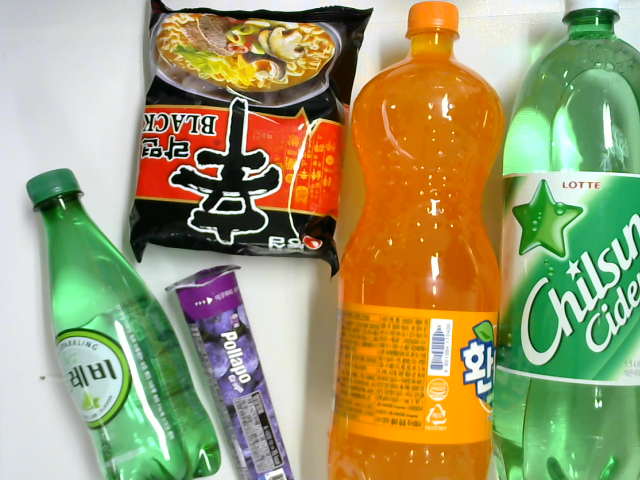Chilseong_Cider_1.5L: (490, 1, 639, 480)
Hwanta_Orange_1.5L: (320, 1, 508, 480)
Polapo_Grape: (166, 261, 300, 480)
Sinramen_Black: (119, 1, 380, 275)
Treviraim_500ml: (21, 163, 232, 480)
